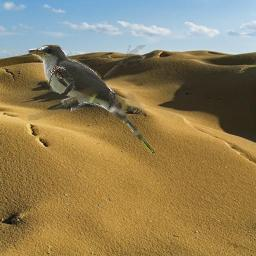Cuckoo: (28, 45, 155, 154)
